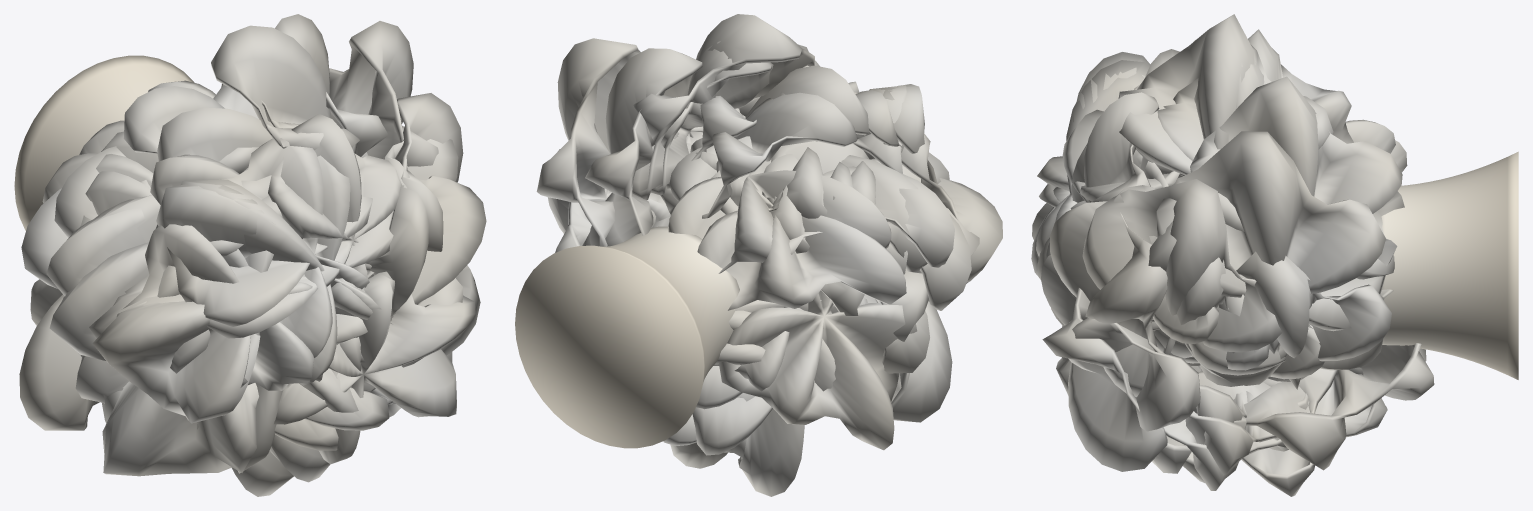
File: sparassis-crispa.glb
3 views of the same model, side by side, from view 1: azimuth 30°, elevation 25°; view 2: azimuth 150°, elevation 25°; view 3: azimuth 270°, elevation 25° (orthographic). The views are drawn at different scales.
Visible parts, largest first — view 1: crisped_lobes, rooting_base; view 2: crisped_lobes, rooting_base; view 3: crisped_lobes, rooting_base.
Part boxes in pixels (x1=…): crisped_lobes: x1=19, y1=14, x2=486, y2=496; rooting_base: x1=14, y1=55, x2=194, y2=230; crisped_lobes: x1=536, y1=14, x2=1002, y2=496; rooting_base: x1=515, y1=226, x2=739, y2=448; crisped_lobes: x1=1031, y1=14, x2=1434, y2=496; rooting_base: x1=1381, y1=151, x2=1518, y2=379.
Bounding box in the file's own units: 1.82 × 1.94 × 1.85.
